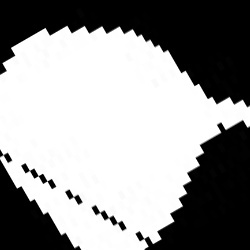spot: (1, 26, 247, 249)
